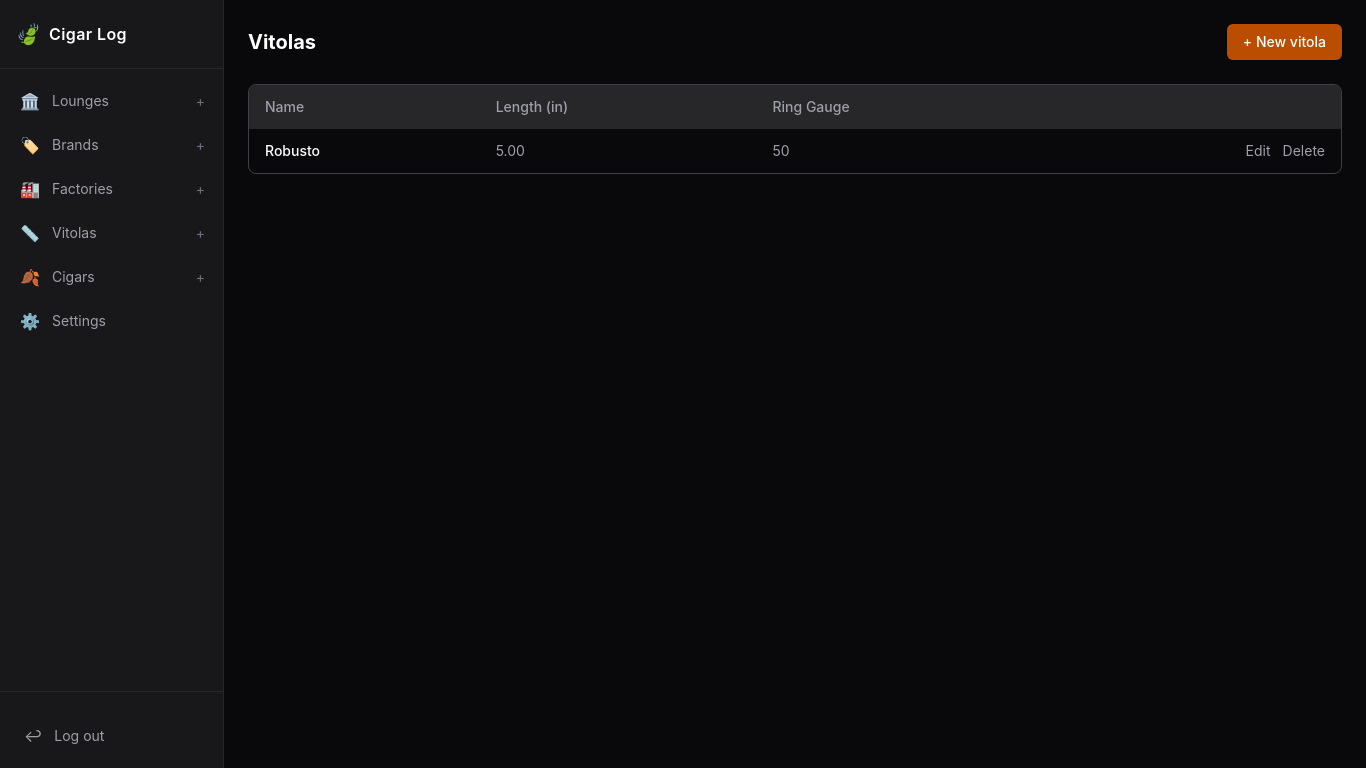
VitolasPage › opens delete confirmation modal
The width and height of the screenshot is (1366, 768).
Click the button "Delete" at (1304, 151), box [1283,141,1325,161]
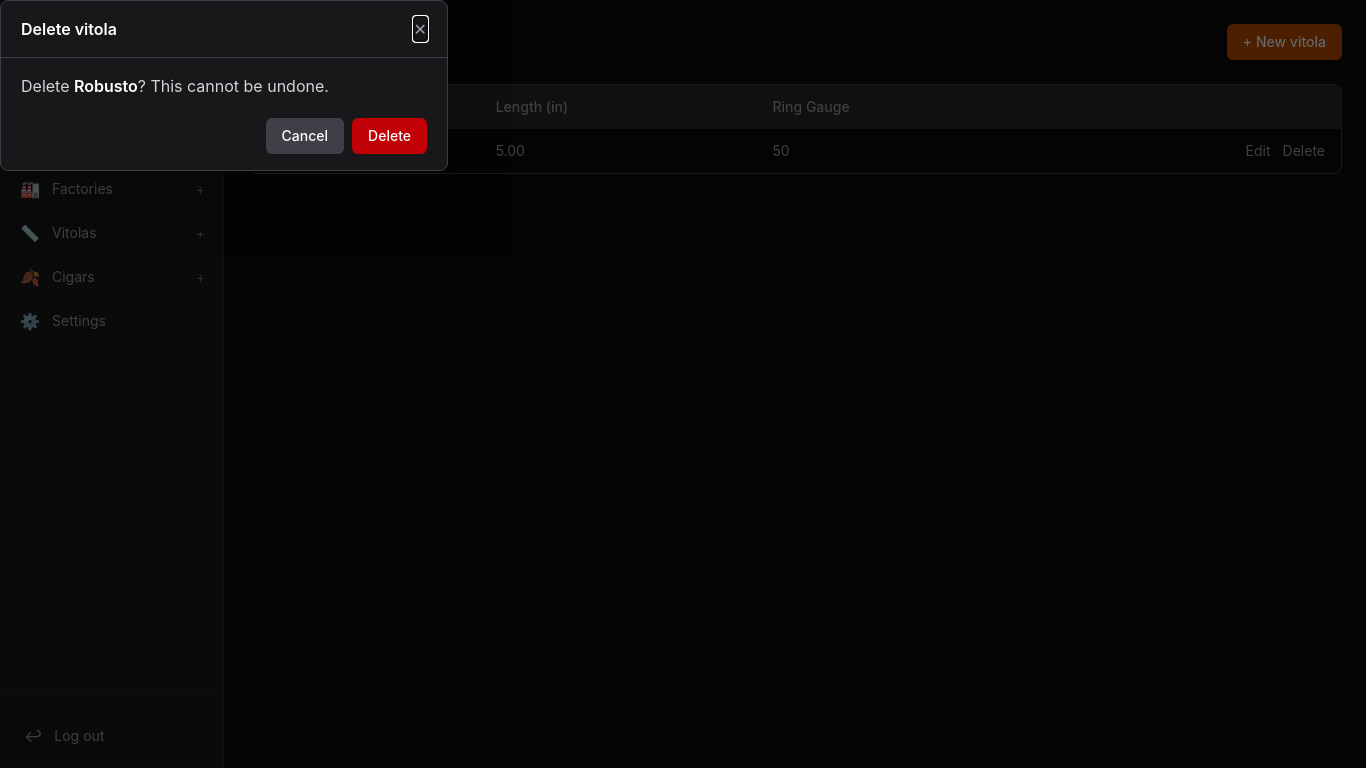
Expected: the text "Robusto" is shown, [249,129,480,173]
Expected: the heading "Delete vitola" is shown, [21,17,117,41]
